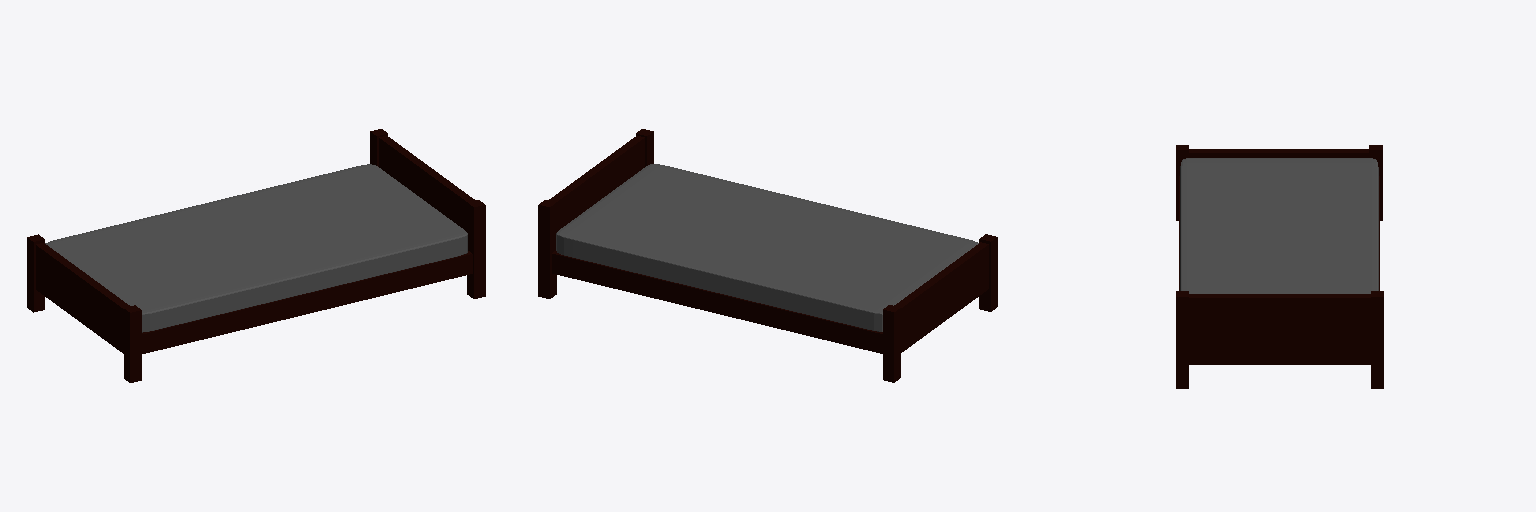
File: bed.obj
3 views of the same model, side by side, from view 1: azimuth 30°, elevation 25°; view 2: azimuth 150°, elevation 25°; view 3: azimuth 270°, elevation 25° (orthographic).
Visible parts, largest first — view 1: Cube.018_Cube.023, Cube.015_Cube.020, Cube.016_Cube.021, Cube.017_Cube.022, Cube.021_Cube.026, Cube.019_Cube.024, Cube.020_Cube.025; view 2: Cube.018_Cube.023, Cube.015_Cube.020, Cube.016_Cube.021, Cube.017_Cube.022, Cube.022_Cube.027, Cube.020_Cube.025, Cube.019_Cube.024; view 3: Cube.018_Cube.023, Cube.017_Cube.022, Cube.016_Cube.021, Cube.021_Cube.026, Cube.022_Cube.027.
Boxes of the visible parts, box(x1,y1,x2,y2) form: Cube.018_Cube.023: box(45, 164, 467, 332); Cube.015_Cube.020: box(142, 251, 472, 353); Cube.016_Cube.021: box(36, 243, 129, 353); Cube.017_Cube.022: box(379, 136, 475, 231); Cube.021_Cube.026: box(467, 200, 485, 298); Cube.019_Cube.024: box(124, 305, 141, 382); Cube.020_Cube.025: box(27, 234, 44, 312); Cube.018_Cube.023: box(556, 164, 978, 331); Cube.015_Cube.020: box(552, 251, 882, 353); Cube.016_Cube.021: box(894, 242, 988, 352); Cube.017_Cube.022: box(548, 136, 644, 231); Cube.022_Cube.027: box(538, 200, 556, 298); Cube.020_Cube.025: box(883, 305, 900, 382); Cube.019_Cube.024: box(979, 234, 997, 311); Cube.018_Cube.023: box(1180, 158, 1378, 293); Cube.017_Cube.022: box(1189, 294, 1370, 364); Cube.016_Cube.021: box(1189, 149, 1368, 157); Cube.021_Cube.026: box(1176, 291, 1188, 388); Cube.022_Cube.027: box(1371, 291, 1383, 388).
Bounding box in the file's own units: 6.1 × 1.51 × 3.09.